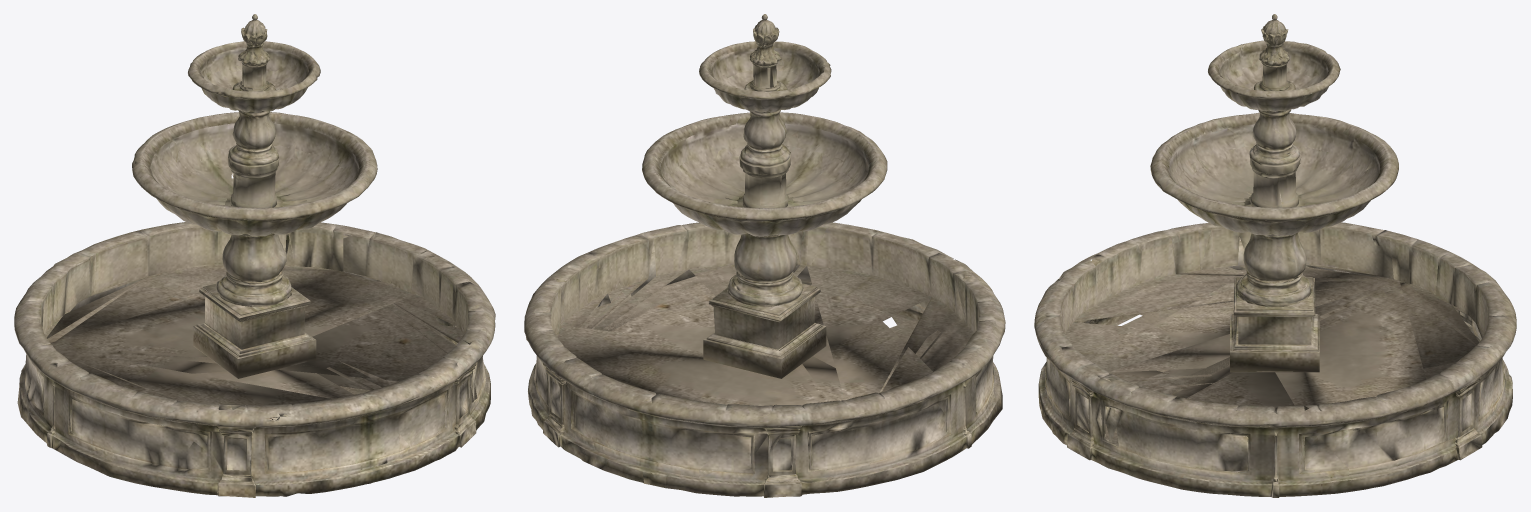
Rendered from skyways-d-lm-fountain.glb.
The picture shows the model from 3 angles, left to right: view 1: azimuth 30°, elevation 25°; view 2: azimuth 150°, elevation 25°; view 3: azimuth 270°, elevation 25°; orthographic projection.
Parts seen in each view (by area): view 1: skyways-d-lm-fountain; view 2: skyways-d-lm-fountain; view 3: skyways-d-lm-fountain.
Boxes of the visible parts, left/top/right/bottom form: skyways-d-lm-fountain: left=14, top=14, right=495, bottom=497; skyways-d-lm-fountain: left=524, top=14, right=1005, bottom=497; skyways-d-lm-fountain: left=1034, top=14, right=1516, bottom=497.
Bounding box in the file's own units: 5.2 × 4.55 × 5.2.
Materials: 1 (1 with a texture image).
